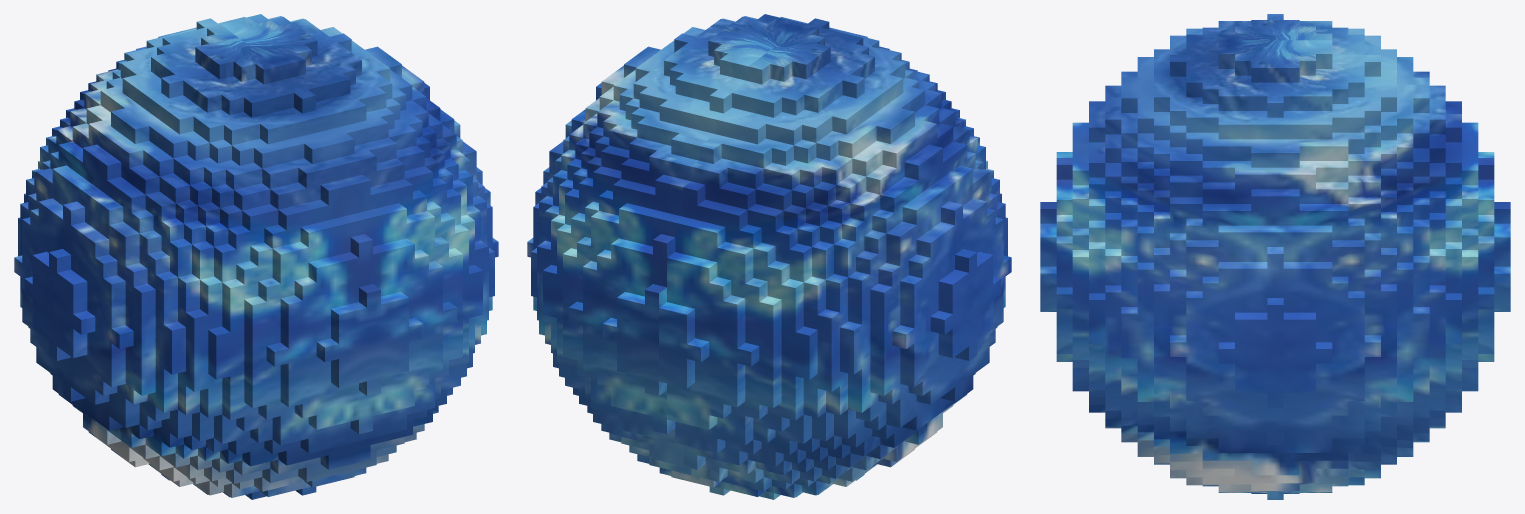
Rendered from 05_Neptune.fbx.
3 renders of one model, left to right at view 1: azimuth 30°, elevation 25°; view 2: azimuth 150°, elevation 25°; view 3: azimuth 270°, elevation 25°, orthographic.
Visible parts, largest first — view 1: 05_Neptune; view 2: 05_Neptune; view 3: 05_Neptune.
Boxes of the visible parts, x1,y1,x2,y2 form: 05_Neptune: (14, 14, 498, 499); 05_Neptune: (527, 14, 1011, 499); 05_Neptune: (1040, 14, 1510, 499).
Size of the model in its own units: 141 by 141 by 141.
Materials: 1 (1 with a texture image).
